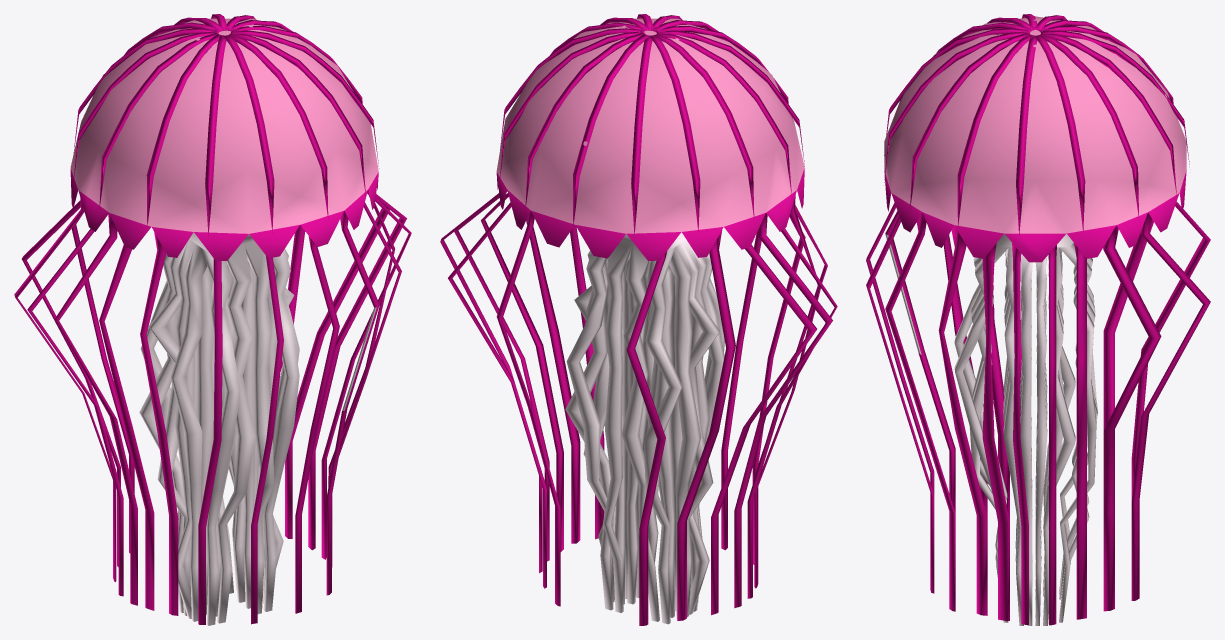
Rendered from jellyfish.gltf.
3 renders of one model, left to right at view 1: azimuth 30°, elevation 25°; view 2: azimuth 150°, elevation 25°; view 3: azimuth 270°, elevation 25°, orthographic.
Visible parts, largest first — view 1: node-0; view 2: node-0; view 3: node-0.
Boxes of the visible parts, box(x1,y1,x2,y2) form: node-0: box(14, 14, 411, 625); node-0: box(440, 14, 837, 625); node-0: box(866, 14, 1210, 625).
Bounding box in the file's own units: 283 × 411 × 223.
